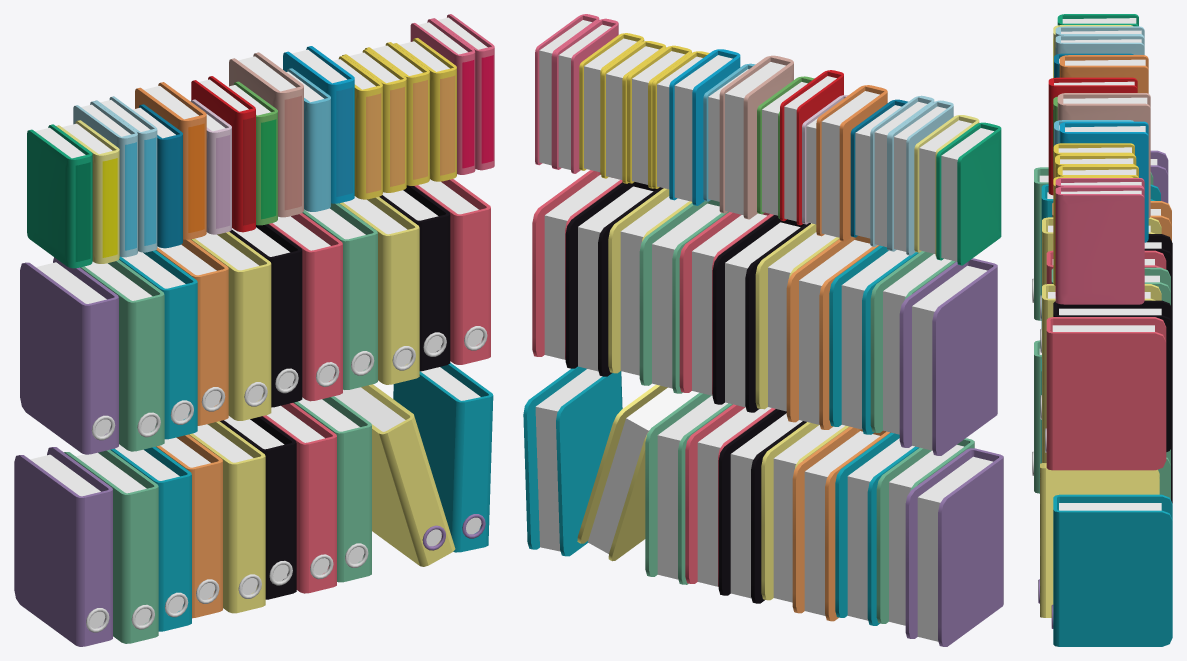
The model's file is Bookcase_content.fbx.
The picture shows the model from 3 angles, left to right: view 1: azimuth 30°, elevation 25°; view 2: azimuth 150°, elevation 25°; view 3: azimuth 270°, elevation 25°; orthographic projection. The views are drawn at different scales.
Visible parts, largest first — view 1: Bookcase_content; view 2: Bookcase_content; view 3: Bookcase_content.
Boxes of the visible parts, box(x1,y1,x2,y2) form: Bookcase_content: box(14, 14, 494, 646); Bookcase_content: box(523, 14, 1003, 646); Bookcase_content: box(1032, 14, 1172, 646).
Size of the model in its own units: 0.9905 by 1.11 by 0.3085.
